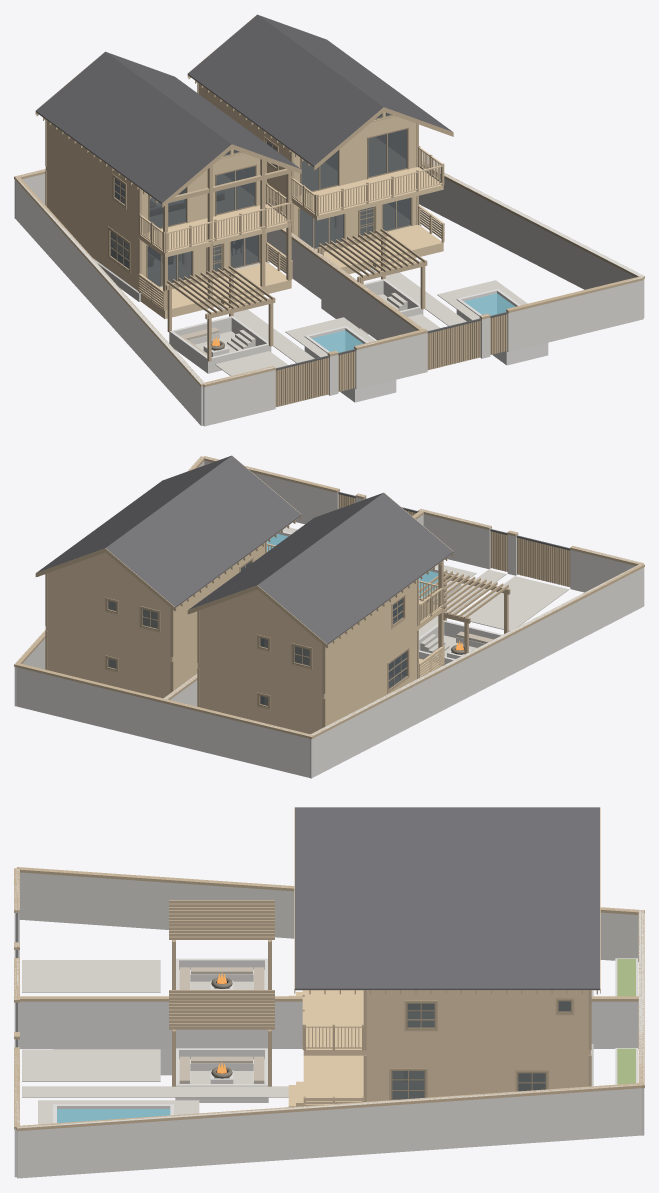
The model's file is web.glb.
3 renders of one model, top to bottom at view 1: azimuth 30°, elevation 25°; view 2: azimuth 150°, elevation 25°; view 3: azimuth 270°, elevation 25°, orthographic. The views are drawn at different scales.
Parts seen in each view (by area): view 1: site_wall, roof_tiles, wood, trim, glass, paver, floor, pool_edge, frame, water, rafters; view 2: wood, roof_tiles, site_wall, trim, paver, glass, frame, pool_edge, rafters; view 3: site_wall, roof_tiles, wood, trim, paver, pool_edge, glass, cushion, lawn_bed, water, frame, floor (+1 smaller).
Boxes of the visible parts, x1,y1,x2,y2 form: site_wall: (14,162,644,426); roof_tiles: (36,14,452,203); wood: (45,83,444,318); trim: (14,14,644,407); glass: (110,112,410,287); paver: (195,268,527,375); floor: (112,137,409,285); pool_edge: (304,289,548,402); frame: (108,112,412,290); water: (312,293,515,352); rafters: (36,76,453,207); wood: (45,543,444,734); roof_tiles: (36,455,453,644); site_wall: (14,456,644,778); trim: (14,455,644,739); paver: (283,527,569,656); glass: (108,561,406,705); frame: (106,559,408,707); pool_edge: (267,531,461,602); rafters: (37,516,453,647); site_wall: (14,869,644,1178); roof_tiles: (295,807,599,989); wood: (288,990,590,1106); trim: (14,807,644,1131); paver: (22,960,288,1124); pool_edge: (53,1049,173,1123); glass: (392,1001,570,1099); cushion: (179,967,264,1083); lawn_bed: (617,959,635,1084); water: (57,1109,170,1122); frame: (391,1000,572,1099); floor: (393,1013,433,1098).
Bounding box in the file's own units: 24.55 × 10.07 × 25.03.
